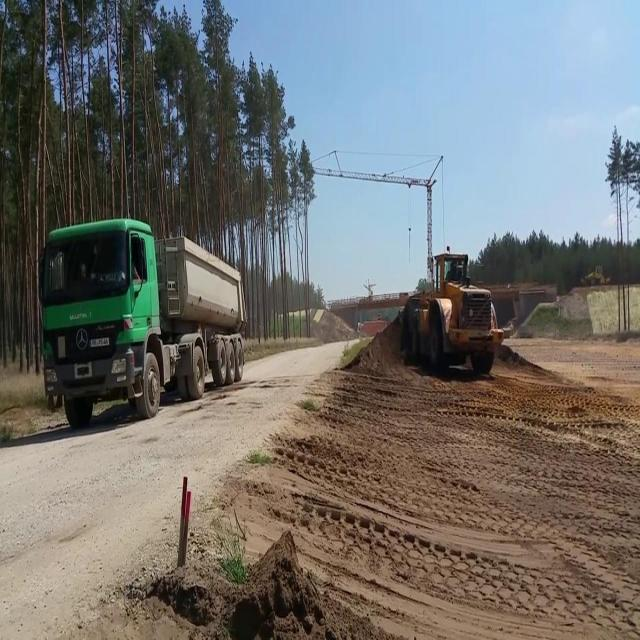Dump Truck: (34, 219, 248, 429)
Loader: (400, 246, 504, 378)
